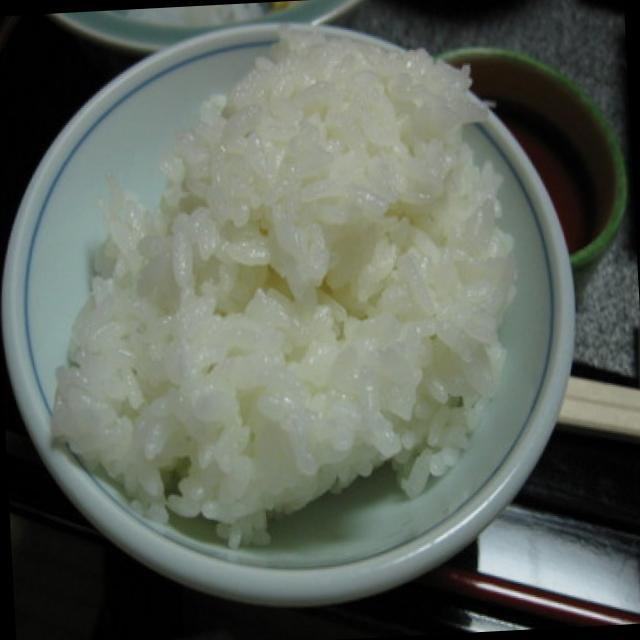Rice: (26, 57, 534, 520)
